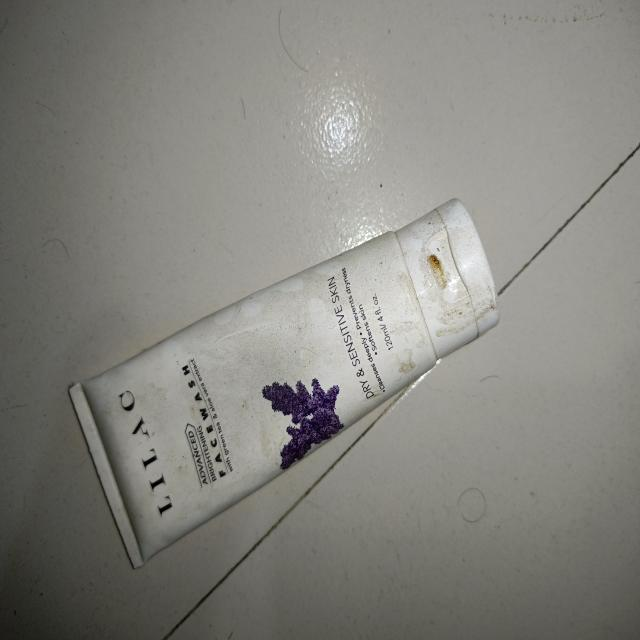Squeeze Tube: (65, 194, 506, 493)
